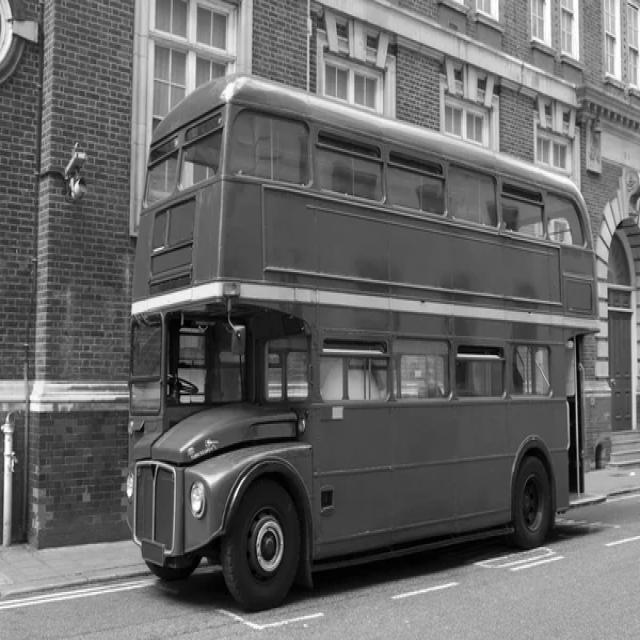Bus: (125, 74, 599, 611)
